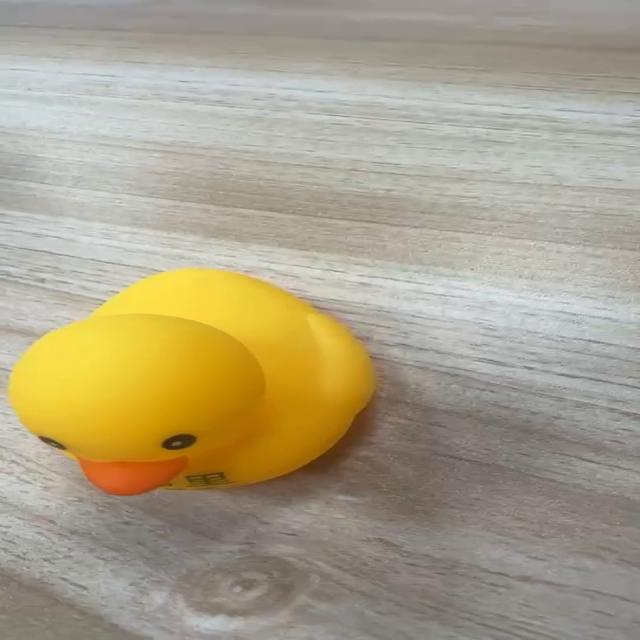yellow_duck: (7, 265, 377, 496)
